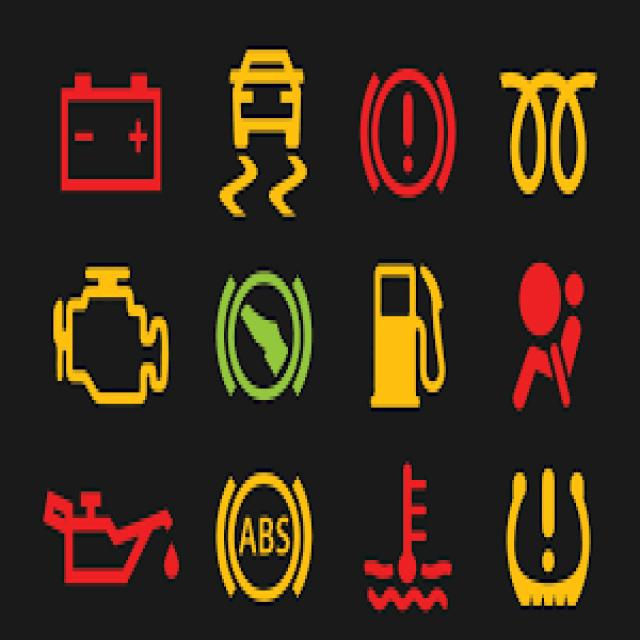kontrolka: (46, 251, 182, 418), (36, 463, 186, 604), (213, 37, 314, 231), (356, 53, 466, 215), (500, 456, 606, 622), (355, 455, 457, 622), (210, 257, 317, 415), (53, 60, 169, 204), (492, 58, 604, 203), (501, 245, 590, 426), (213, 455, 316, 604), (363, 254, 449, 420)
